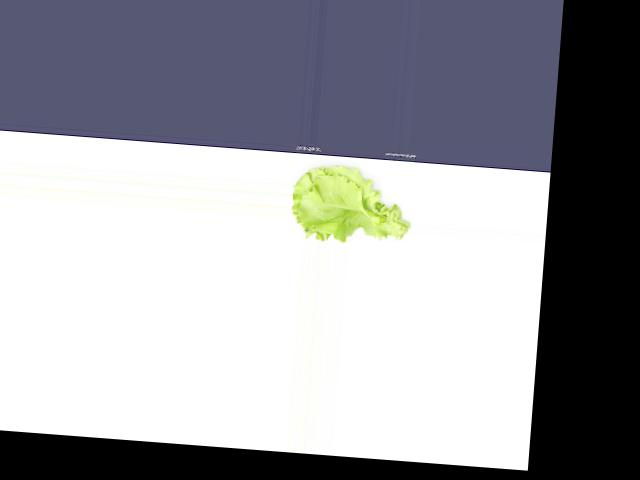lettuce: (289, 155, 412, 248)
